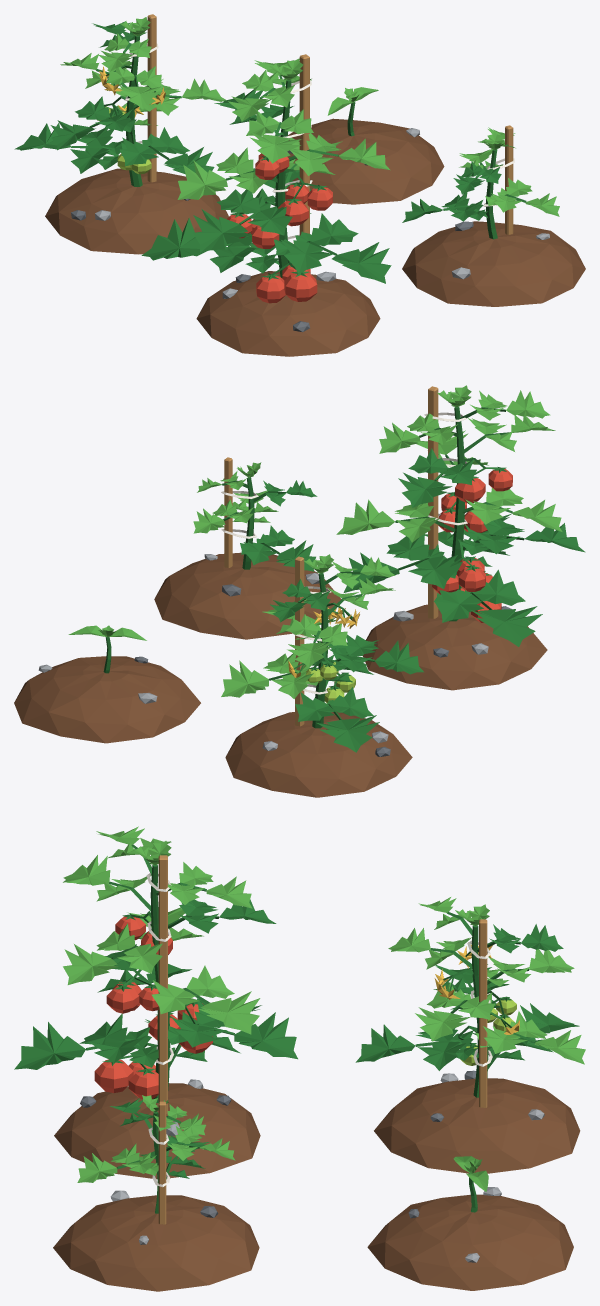
The model's file is tomato-plant-growth-stages.glb.
3 views of the same model, one above another, from view 1: azimuth 30°, elevation 25°; view 2: azimuth 150°, elevation 25°; view 3: azimuth 270°, elevation 25° (orthographic). The views are drawn at different scales.
Parts seen in each view (by area): view 1: TomatoPlant_Stage4, TomatoPlant_Stage3, TomatoPlant_Stage2, TomatoPlant_Stage1; view 2: TomatoPlant_Stage4, TomatoPlant_Stage3, TomatoPlant_Stage2, TomatoPlant_Stage1; view 3: TomatoPlant_Stage4, TomatoPlant_Stage3, TomatoPlant_Stage2, TomatoPlant_Stage1.
Boxes of the visible parts, bbox=[...] form: TomatoPlant_Stage4: bbox=[141, 54, 391, 356]; TomatoPlant_Stage3: bbox=[14, 14, 228, 254]; TomatoPlant_Stage2: bbox=[402, 125, 585, 306]; TomatoPlant_Stage1: bbox=[287, 87, 444, 204]; TomatoPlant_Stage4: bbox=[336, 385, 585, 690]; TomatoPlant_Stage3: bbox=[221, 554, 423, 797]; TomatoPlant_Stage2: bbox=[154, 457, 341, 639]; TomatoPlant_Stage1: bbox=[14, 625, 200, 743]; TomatoPlant_Stage4: bbox=[14, 826, 297, 1179]; TomatoPlant_Stage3: bbox=[355, 897, 585, 1173]; TomatoPlant_Stage2: bbox=[53, 1095, 259, 1291]; TomatoPlant_Stage1: bbox=[367, 1156, 573, 1290].
Bounding box in the file's own units: 6.05 × 3.75 × 6.75.
